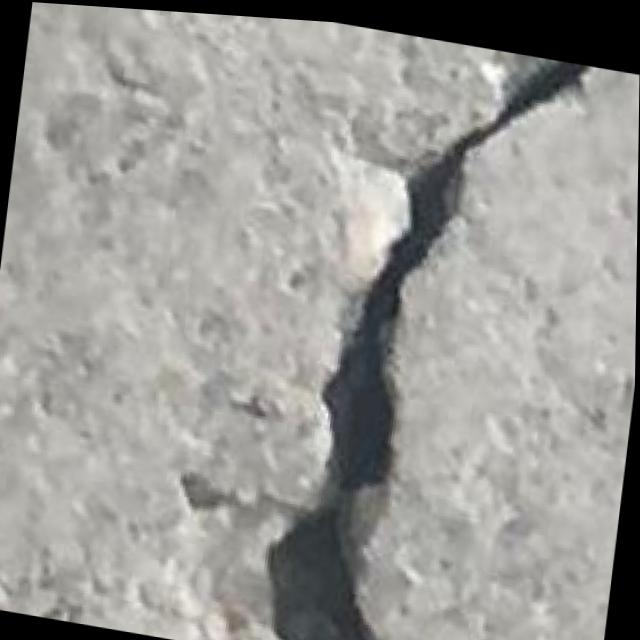Crack: (244, 14, 612, 640)
